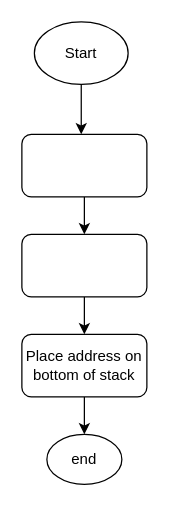
The diagram is 169 pixels wide and 506 high, and some of its shapes have lost their labels. Here are the shapes that lost their labels. From the top down, the box of each, then its label:
(21, 133, 147, 197): Get user input
(21, 233, 147, 297): User convert1
